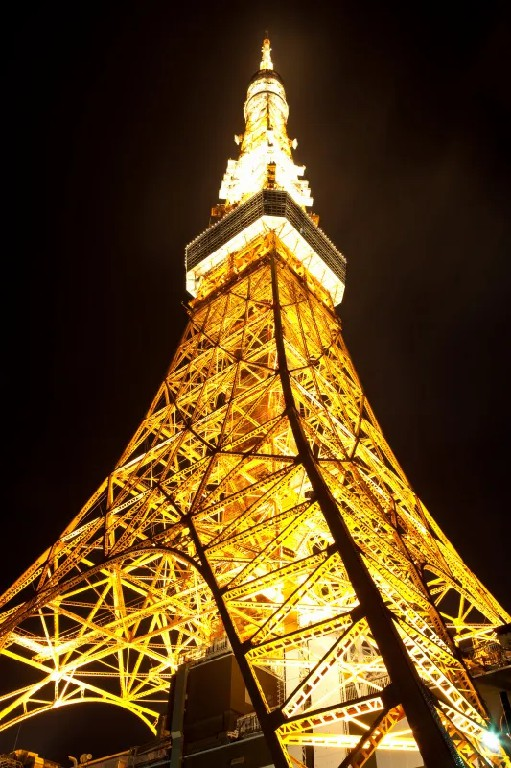Tokyo: (1, 29, 511, 768)
